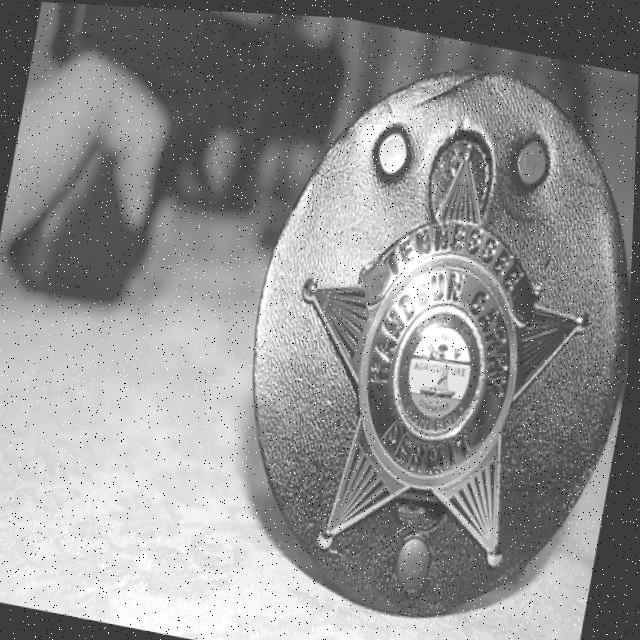pistol: (22, 1, 356, 240)
